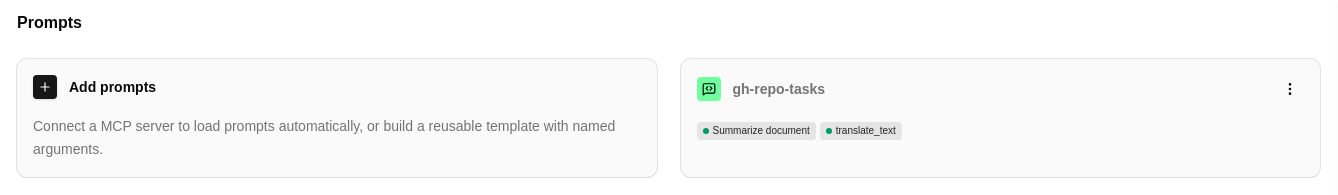
Test: Prompts › groups prompts from the same MCP server into one card with prompt-name badges
The width and height of the screenshot is (1338, 195).
Expected: the text "gh-repo-tasks" is shown, [732,79,825,99]
Click the button named "More options for gh-repo-tasks": (1290, 89) [1276,75,1304,103]
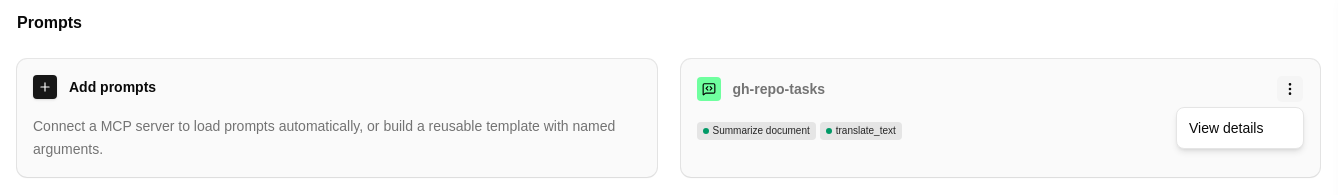
Expected: the menu item "View details" is shown, [1189,120,1264,136]
